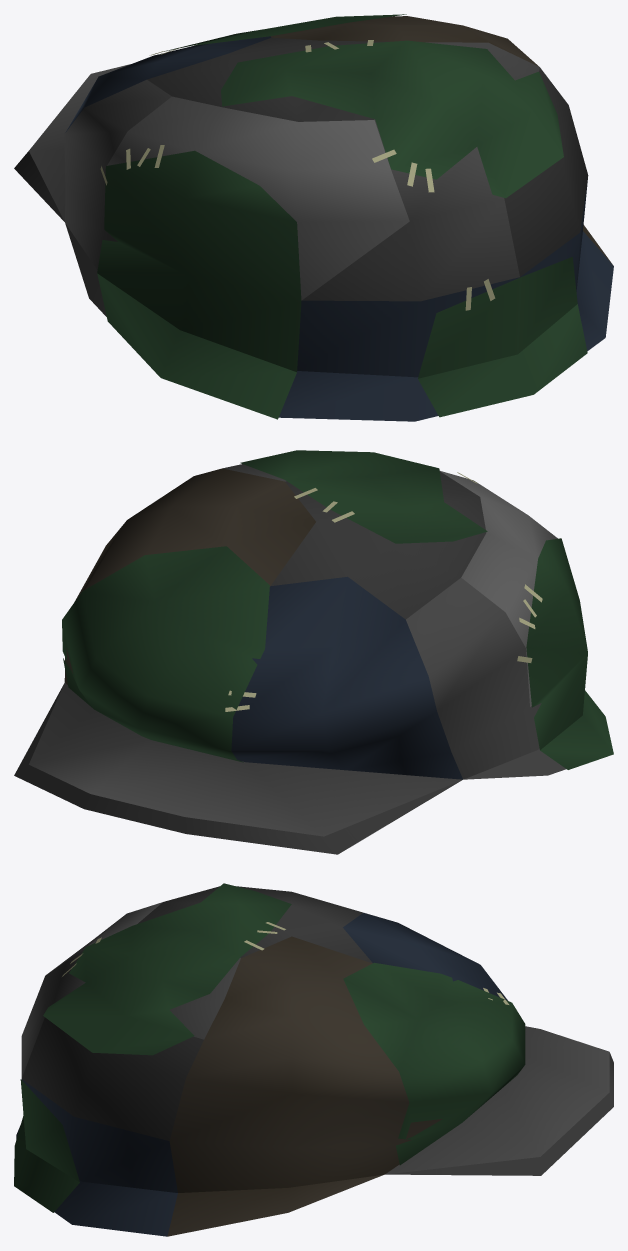
The model's file is hat_patchwork.glb.
3 views of the same model, one above another, from view 1: azimuth 30°, elevation 25°; view 2: azimuth 150°, elevation 25°; view 3: azimuth 270°, elevation 25° (orthographic). The views are drawn at different scales.
Parts seen in each view (by area): view 1: hat_patchwork; view 2: hat_patchwork; view 3: hat_patchwork.
Part boxes in pixels (x1,y1,x2,y2): hat_patchwork: (14,14,613,421); hat_patchwork: (14,450,613,854); hat_patchwork: (14,883,613,1236).
Size of the model in its own units: 0.344 by 0.1858 by 0.4375.
